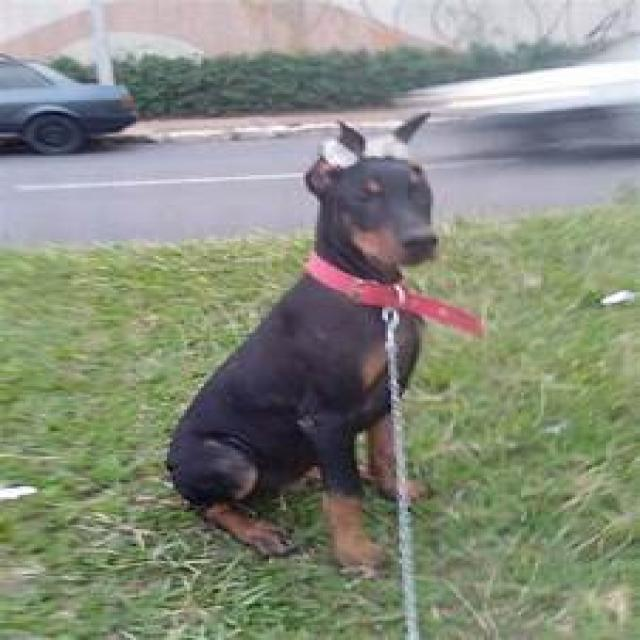dog: (167, 154, 481, 576)
